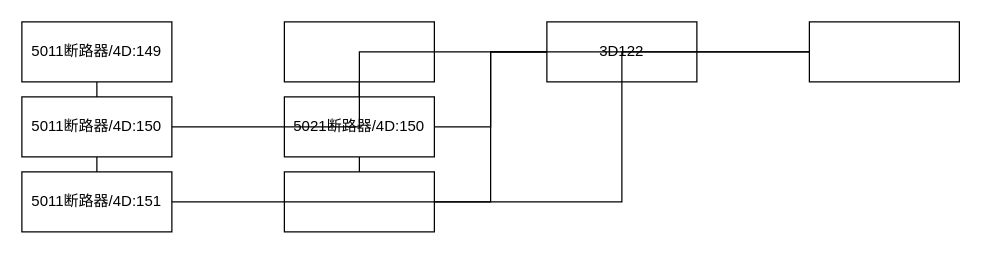
Image size: 981x254. Some labels were removed from this diagram. Each missing label, with the box of its shape:
4n5X4: (808, 21, 959, 82)
5021断路器/4D:149: (283, 21, 434, 82)
5021断路器/4D:151: (283, 171, 434, 232)
